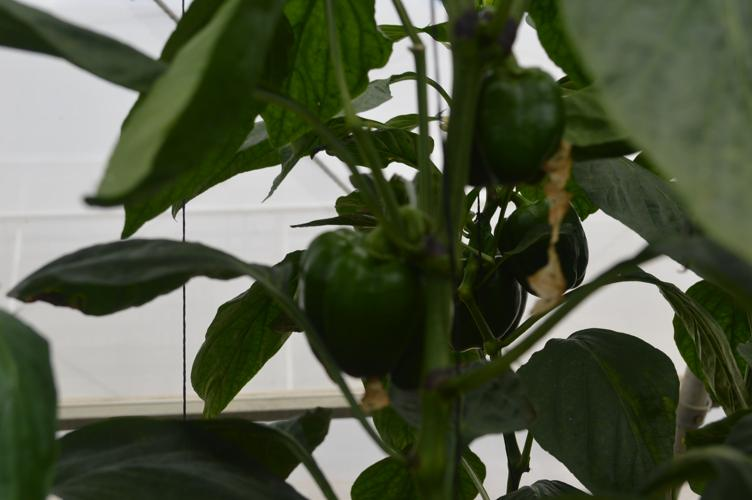BellPepper: (302, 230, 425, 383), (470, 69, 571, 190), (498, 195, 585, 291), (448, 251, 521, 352)
